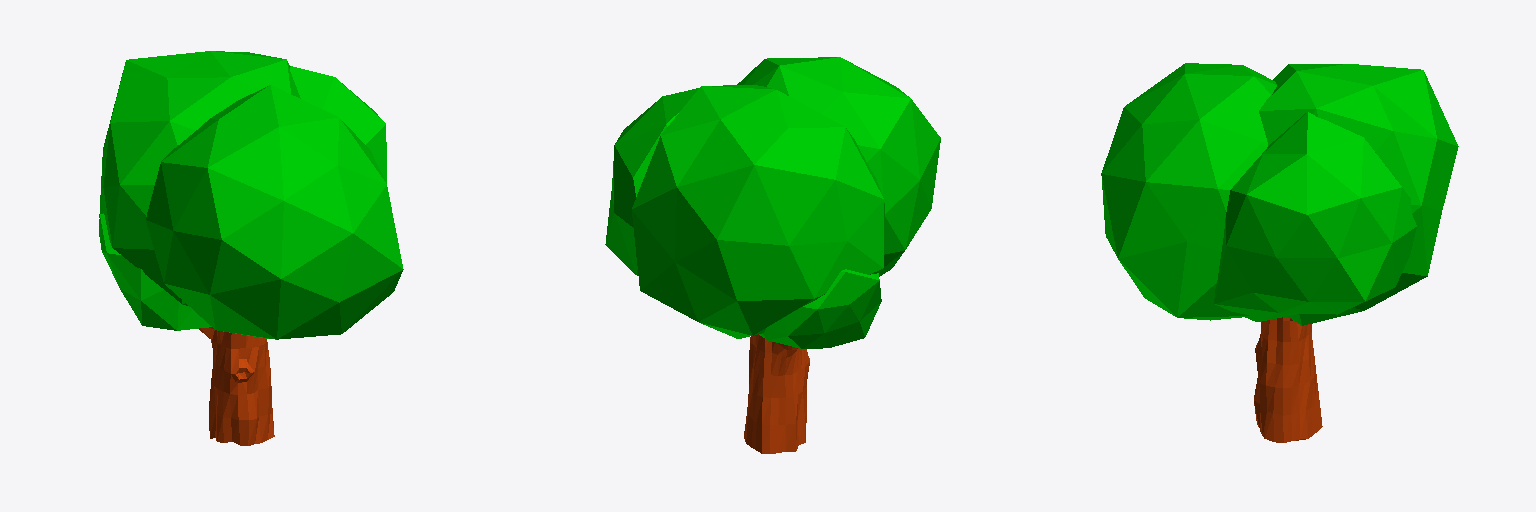
Rendered from Tree.obj.
3 renders of one model, left to right at view 1: azimuth 30°, elevation 25°; view 2: azimuth 150°, elevation 25°; view 3: azimuth 270°, elevation 25°, orthographic.
Visible parts, largest first — view 1: Icosphere_Icosphere.001; view 2: Icosphere_Icosphere.001; view 3: Icosphere_Icosphere.001.
Part boxes in pixels (x1,y1,x2,y2): Icosphere_Icosphere.001: (99, 51, 403, 445); Icosphere_Icosphere.001: (605, 57, 940, 453); Icosphere_Icosphere.001: (1101, 63, 1458, 442).
Bounding box in the file's own units: 16.5 × 21.82 × 19.57.